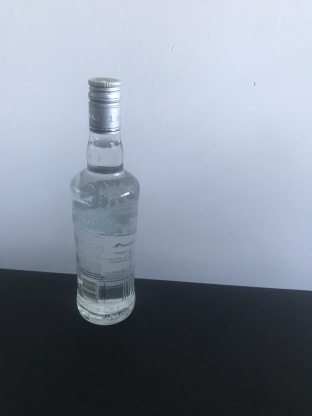nakretka: (86, 76, 122, 135)
